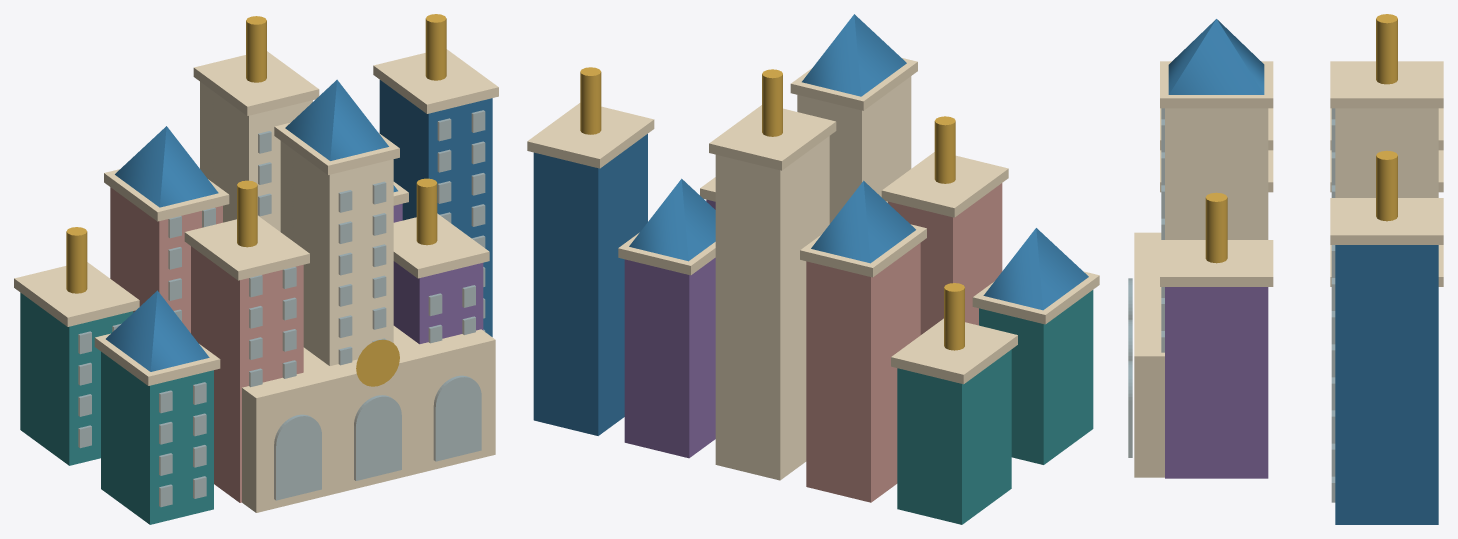
The model's file is zootopia.glb.
3 renders of one model, left to right at view 1: azimuth 30°, elevation 25°; view 2: azimuth 150°, elevation 25°; view 3: azimuth 270°, elevation 25°, orthographic. The views are drawn at different scales.
Bounding box in the file's own units: 4.32 × 3.6 × 2.59.
